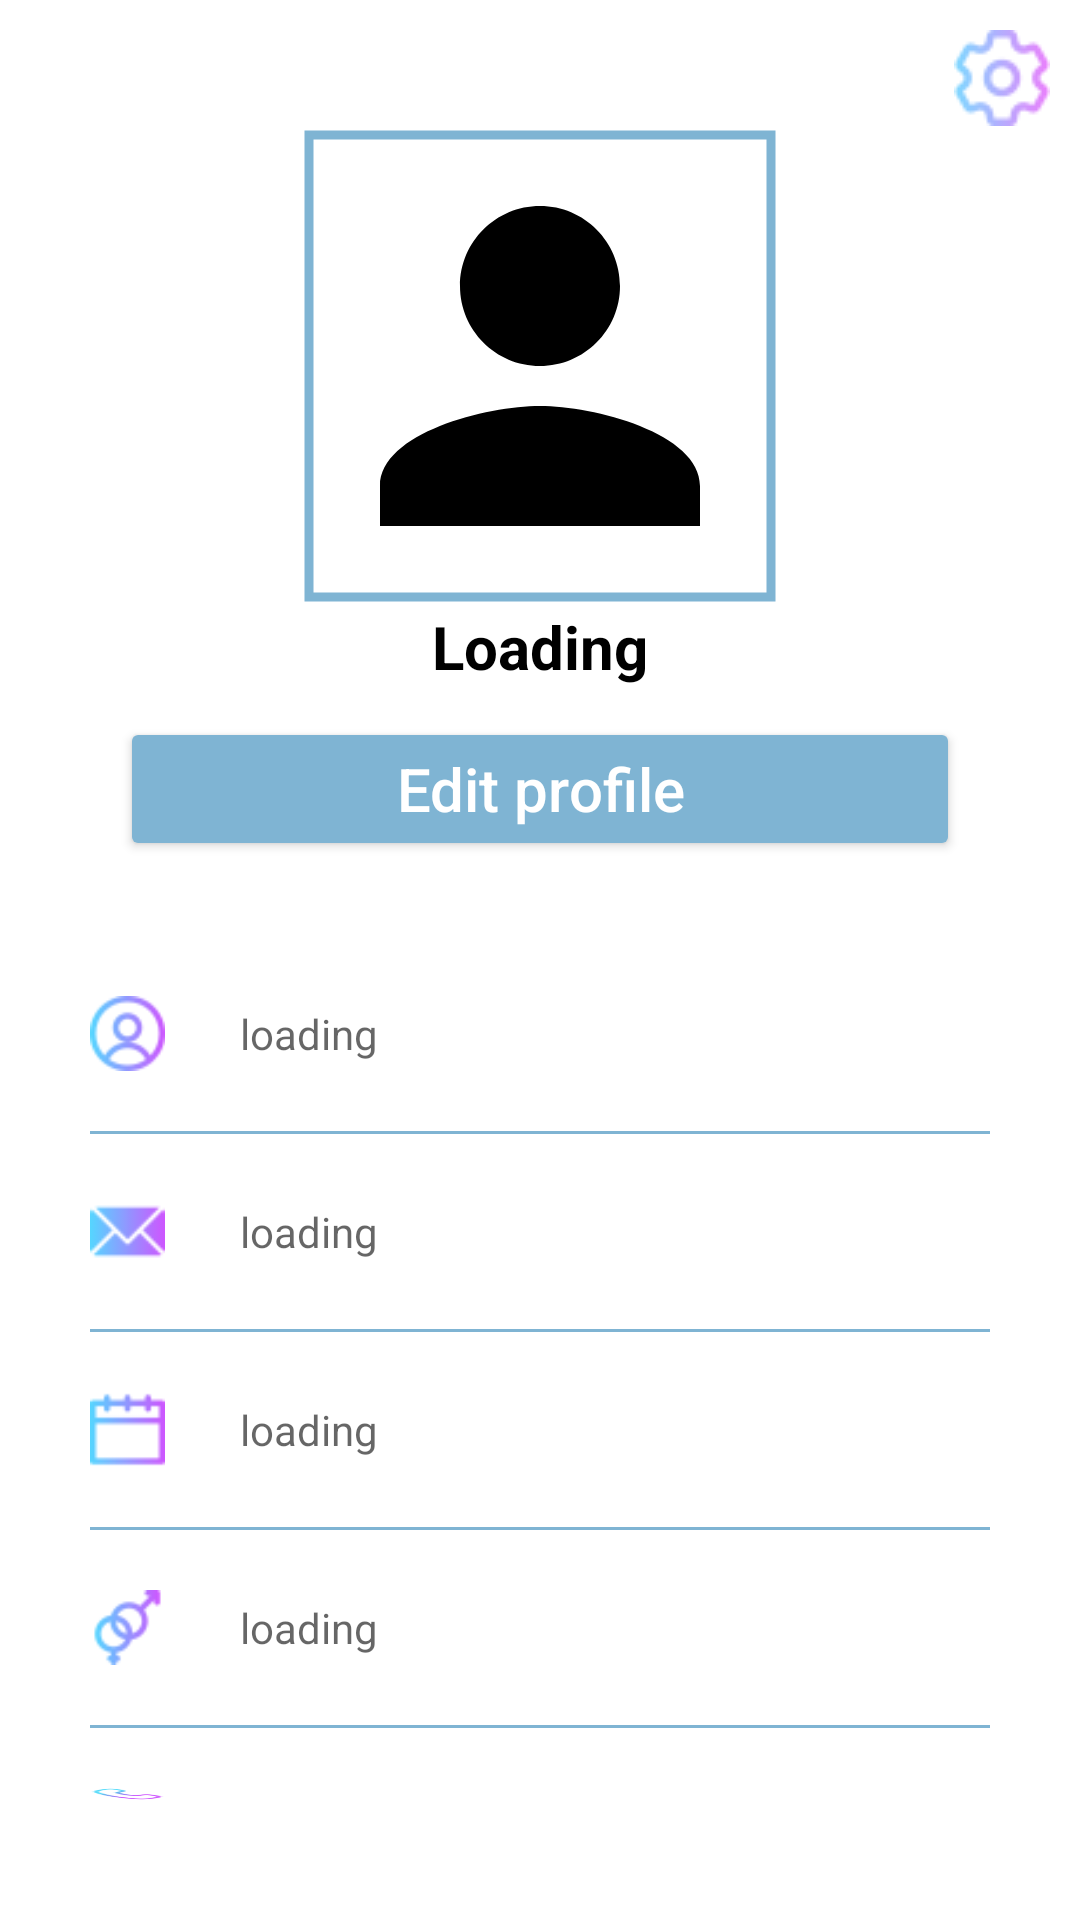

Named icons in this screenshot (1080 x 1920) and their centers, (x,y):
calendar: (127,1429)
email: (127,1231)
gender: (127,1627)
setting: (1002,78)
